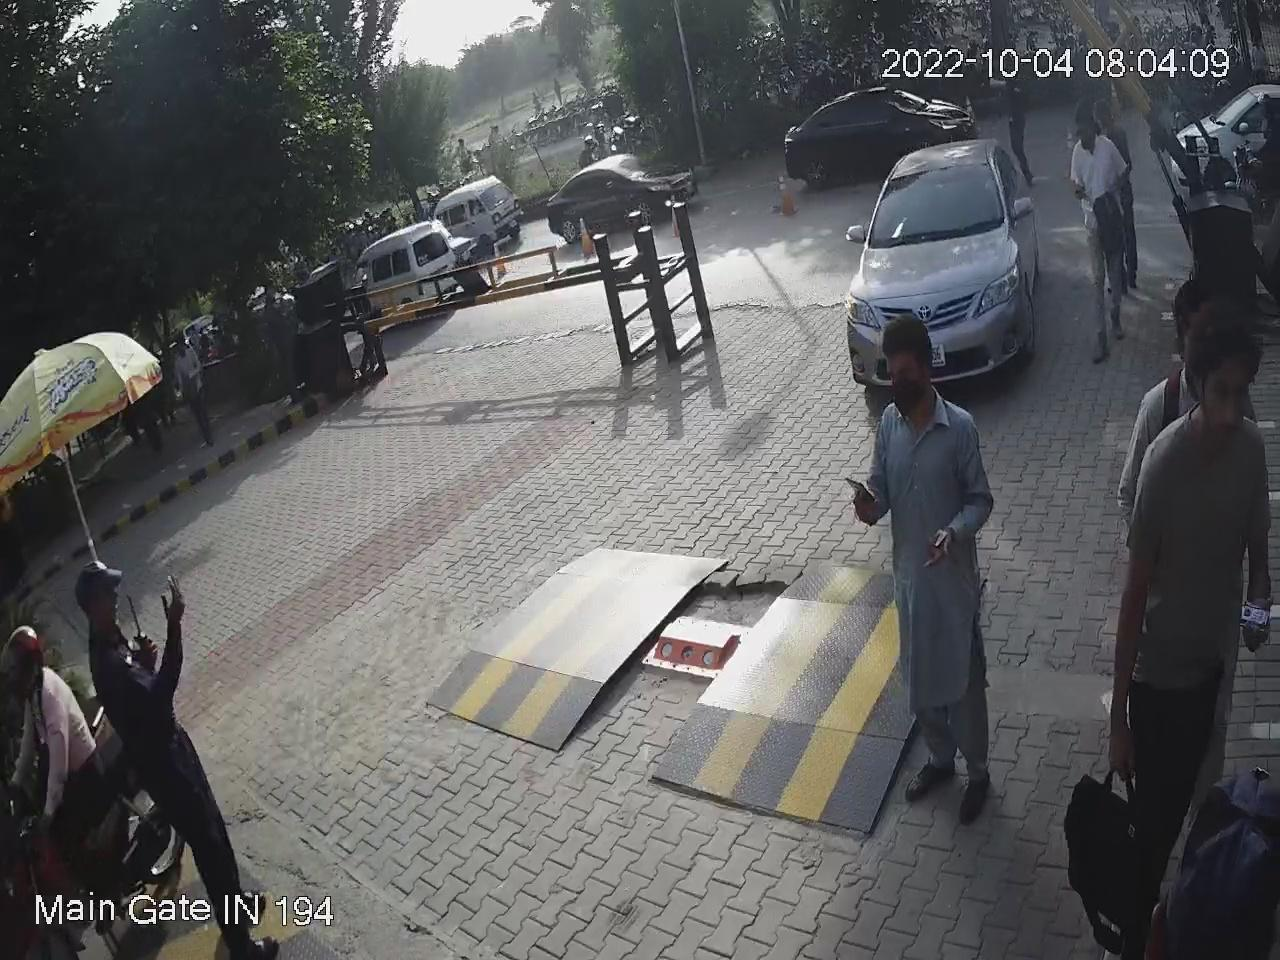windshield: (863, 150, 1010, 257)
